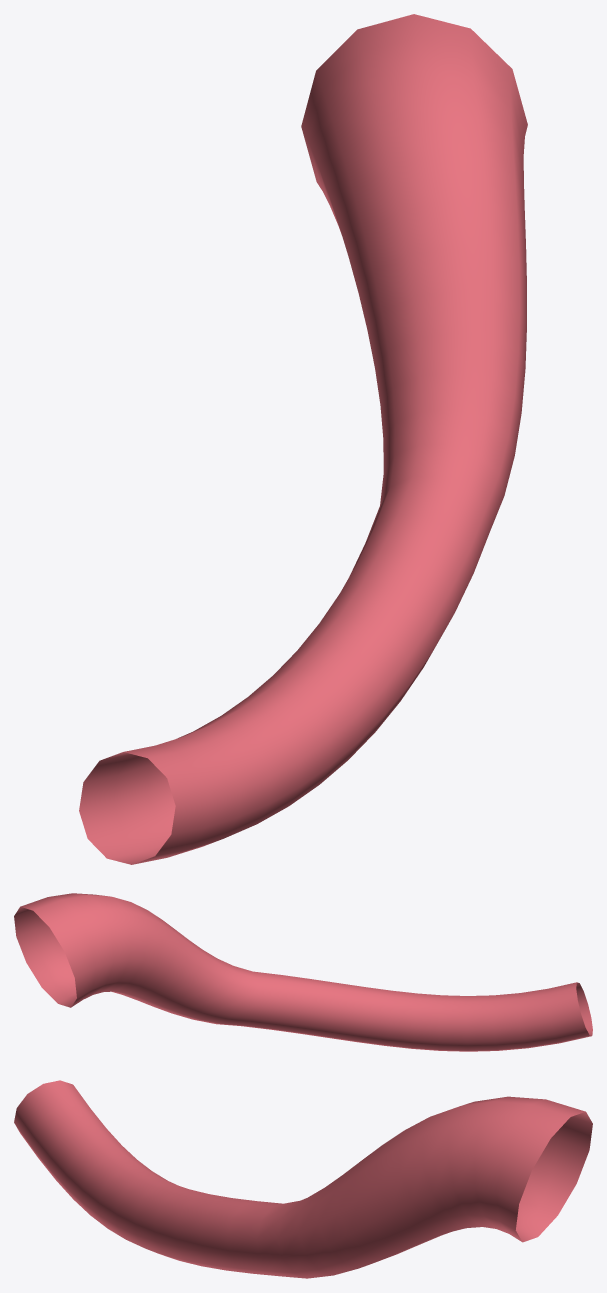
3 renders of one model, top to bottom at view 1: azimuth 30°, elevation 25°; view 2: azimuth 150°, elevation 25°; view 3: azimuth 270°, elevation 25°, orthographic. The views are drawn at different scales.
Visible parts, largest first — view 1: ZA_eb7c11dff5031034; view 2: ZA_eb7c11dff5031034; view 3: ZA_eb7c11dff5031034.
Boxes of the visible parts, bbox=[...] form: ZA_eb7c11dff5031034: bbox=[79, 14, 527, 864]; ZA_eb7c11dff5031034: bbox=[14, 893, 592, 1051]; ZA_eb7c11dff5031034: bbox=[14, 1080, 592, 1278].
Bounding box in the file's own units: 0.0323 × 0.0162 × 0.0318.
